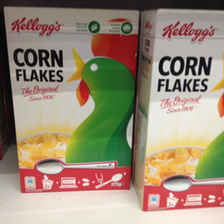cereal: (3, 6, 139, 193), (140, 10, 224, 211)
